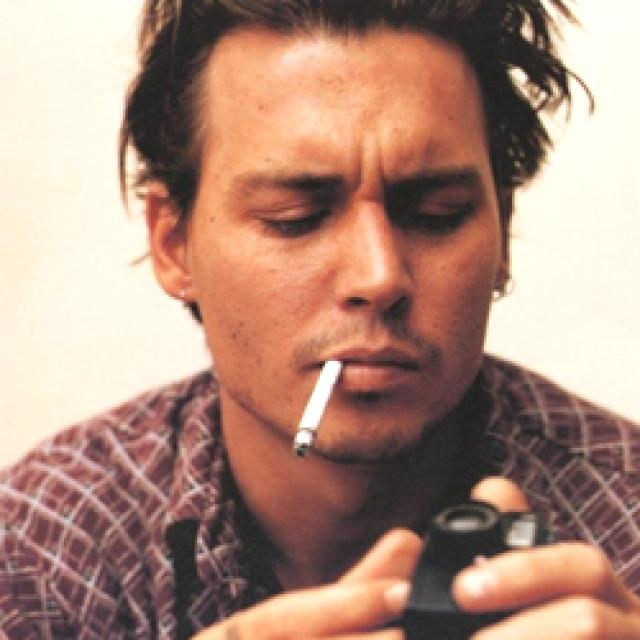Smooking: (289, 356, 348, 474)
